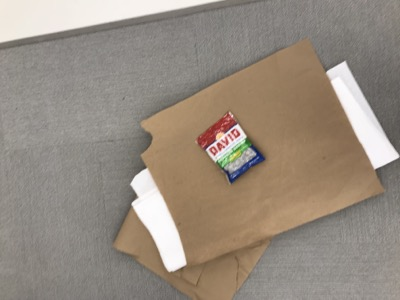sunflower seed: (194, 110, 265, 187)
